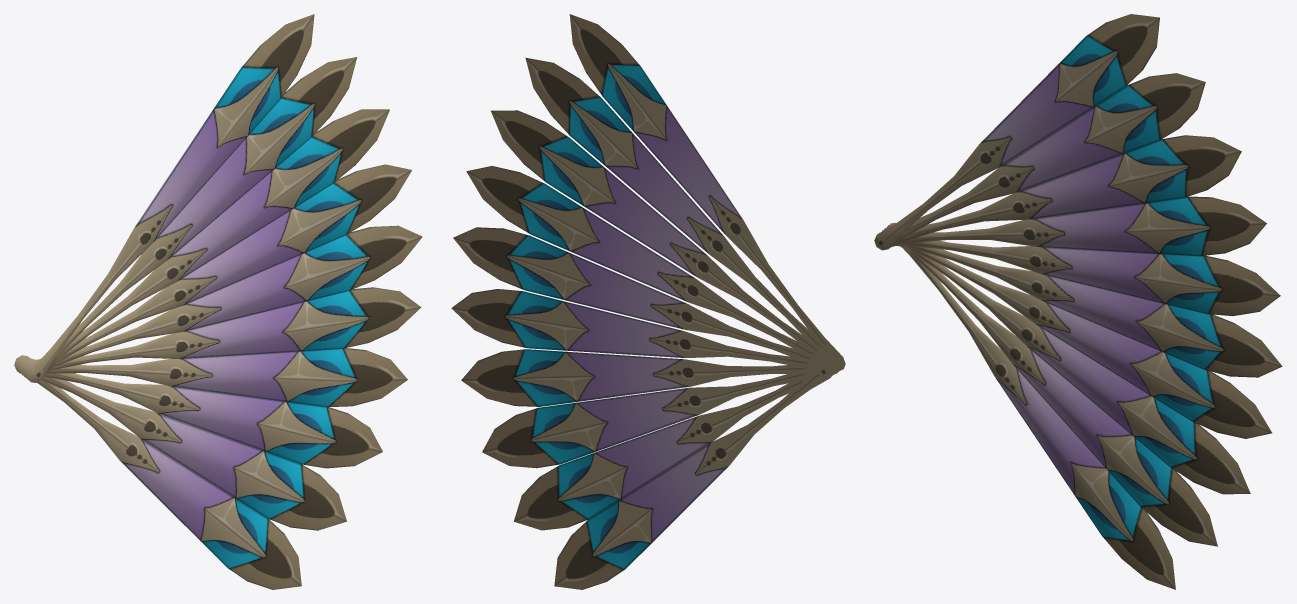
Rendered from shanzi_kai.FBX.
3 views of the same model, side by side, from view 1: azimuth 30°, elevation 25°; view 2: azimuth 150°, elevation 25°; view 3: azimuth 330°, elevation 25° (orthographic). The views are drawn at different scales.
Visible parts, largest first — view 1: shanzi_kai; view 2: shanzi_kai; view 3: shanzi_kai.
Boxes of the visible parts, x1,y1,x2,y2 form: shanzi_kai: (14,14,422,589); shanzi_kai: (451,14,845,589); shanzi_kai: (874,14,1282,589).
Bounding box in the file's own units: 27.89 × 38.71 × 2.25.
